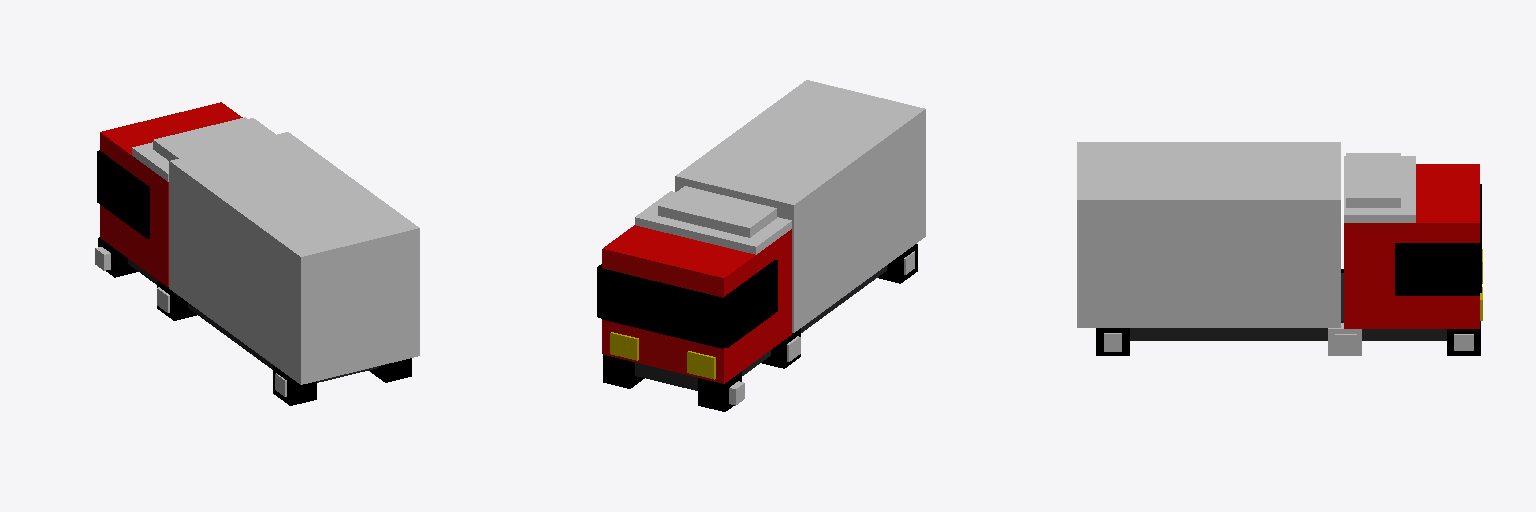
Rendered from Camion_Crossy_Road.obj.
The picture shows the model from 3 angles: view 1: azimuth 30°, elevation 25°; view 2: azimuth 150°, elevation 25°; view 3: azimuth 270°, elevation 25°; orthographic projection.
Parts seen in each view (by area): view 1: cabinaTrasera_Cube.019, cabinaDelantera_Cube.020, ventanaDer_Cube.028, techoSuperior_Cube.022, techoBase_Cube.021, llanta7_Cube.017, base_Cube.023, llanta4_Cube.014, llanta5_Cube.016, llanta3_Cube.013; view 2: cabinaTrasera_Cube.019, cabinaDelantera_Cube.020, visor_Cube.026, techoSuperior_Cube.022, ventanaDer_Cube.028, techoBase_Cube.021, base_Cube.023, llanta3_Cube.013, llanta2_Cube.012, focoIzq_Cube.030, focoDer_Cube.029, llanta7_Cube.017 (+1 smaller); view 3: cabinaTrasera_Cube.019, cabinaDelantera_Cube.020, ventanaIzq_Cube.027, base_Cube.023, techoSuperior_Cube.022, techoBase_Cube.021, llanta4_Cube.014, llanta2_Cube.012, llanta1_Cube.011.
Boxes of the visible parts, x1=… form: cabinaTrasera_Cube.019: x1=169, y1=132, x2=419, y2=384; cabinaDelantera_Cube.020: x1=100, y1=102, x2=242, y2=286; ventanaDer_Cube.028: x1=97, y1=150, x2=149, y2=238; techoSuperior_Cube.022: x1=153, y1=117, x2=269, y2=160; techoBase_Cube.021: x1=132, y1=118, x2=275, y2=181; llanta7_Cube.017: x1=273, y1=366, x2=316, y2=405; base_Cube.023: x1=128, y1=259, x2=378, y2=382; llanta4_Cube.014: x1=369, y1=358, x2=411, y2=382; llanta5_Cube.016: x1=157, y1=281, x2=196, y2=320; llanta3_Cube.013: x1=98, y1=237, x2=137, y2=277; cabinaTrasera_Cube.019: x1=675, y1=80, x2=925, y2=332; cabinaDelantera_Cube.020: x1=602, y1=225, x2=791, y2=383; visor_Cube.026: x1=601, y1=268, x2=723, y2=348; techoSuperior_Cube.022: x1=658, y1=186, x2=776, y2=237; ventanaDer_Cube.028: x1=724, y1=260, x2=777, y2=347; techoBase_Cube.021: x1=635, y1=191, x2=791, y2=254; base_Cube.023: x1=635, y1=266, x2=886, y2=390; llanta3_Cube.013: x1=698, y1=372, x2=741, y2=411; llanta2_Cube.012: x1=603, y1=355, x2=644, y2=388; focoIzq_Cube.030: x1=610, y1=332, x2=638, y2=360; focoDer_Cube.029: x1=687, y1=351, x2=715, y2=379; llanta7_Cube.017: x1=878, y1=244, x2=917, y2=283; cabinaTrasera_Cube.019: x1=1077, y1=142, x2=1340, y2=327; cabinaDelantera_Cube.020: x1=1344, y1=164, x2=1479, y2=328; ventanaIzq_Cube.027: x1=1395, y1=243, x2=1479, y2=295; base_Cube.023: x1=1130, y1=273, x2=1446, y2=340; techoSuperior_Cube.022: x1=1346, y1=153, x2=1400, y2=207; techoBase_Cube.021: x1=1344, y1=156, x2=1415, y2=222; llanta4_Cube.014: x1=1096, y1=328, x2=1129, y2=355; llanta2_Cube.012: x1=1447, y1=321, x2=1480, y2=355; llanta1_Cube.011: x1=1328, y1=323, x2=1361, y2=355.
Bounding box in the file's own units: 4.66 × 5.46 × 11.55.